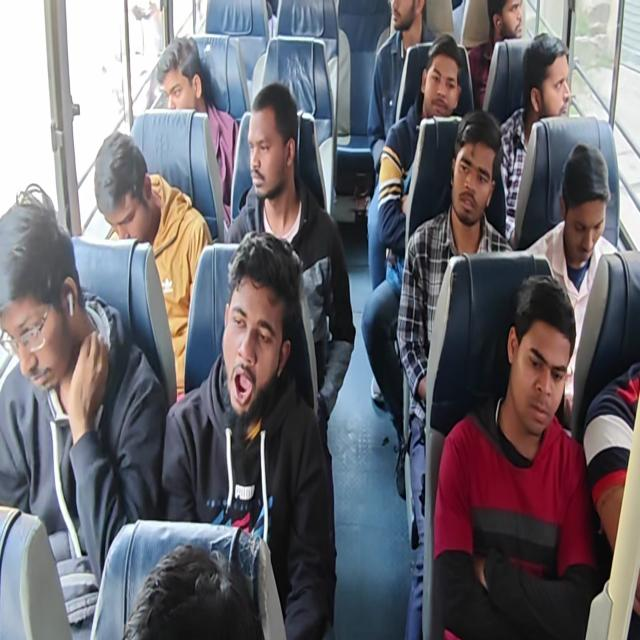person: (1, 1, 638, 638), (1, 183, 168, 637), (160, 230, 337, 638), (395, 108, 514, 638), (431, 273, 599, 638), (225, 81, 356, 457), (361, 32, 463, 498), (93, 130, 213, 400), (523, 142, 620, 429), (366, 0, 438, 291), (156, 35, 240, 227), (582, 360, 640, 638), (498, 32, 571, 243), (122, 543, 265, 639), (467, 0, 523, 111)
